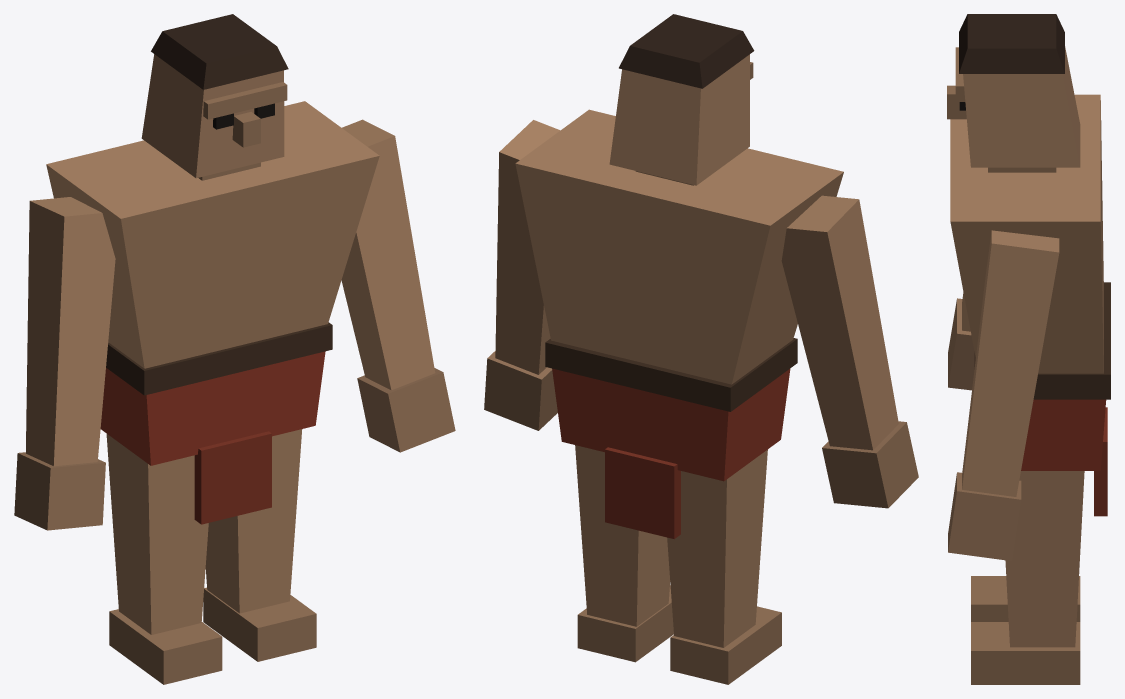
Rendered from human_team_a.glb.
The picture shows the model from 3 angles, left to right: view 1: azimuth 30°, elevation 25°; view 2: azimuth 150°, elevation 25°; view 3: azimuth 270°, elevation 25°; orthographic projection. The views are drawn at different scales.
Visible parts, largest first — view 1: human_team_a; view 2: human_team_a; view 3: human_team_a.
Boxes of the visible parts, x1=… form: human_team_a: x1=14, y1=14, x2=455, y2=684; human_team_a: x1=484, y1=14, x2=918, y2=684; human_team_a: x1=947, y1=14, x2=1110, y2=684.
Size of the model in its own units: 1.4 by 1.99 by 0.48.
